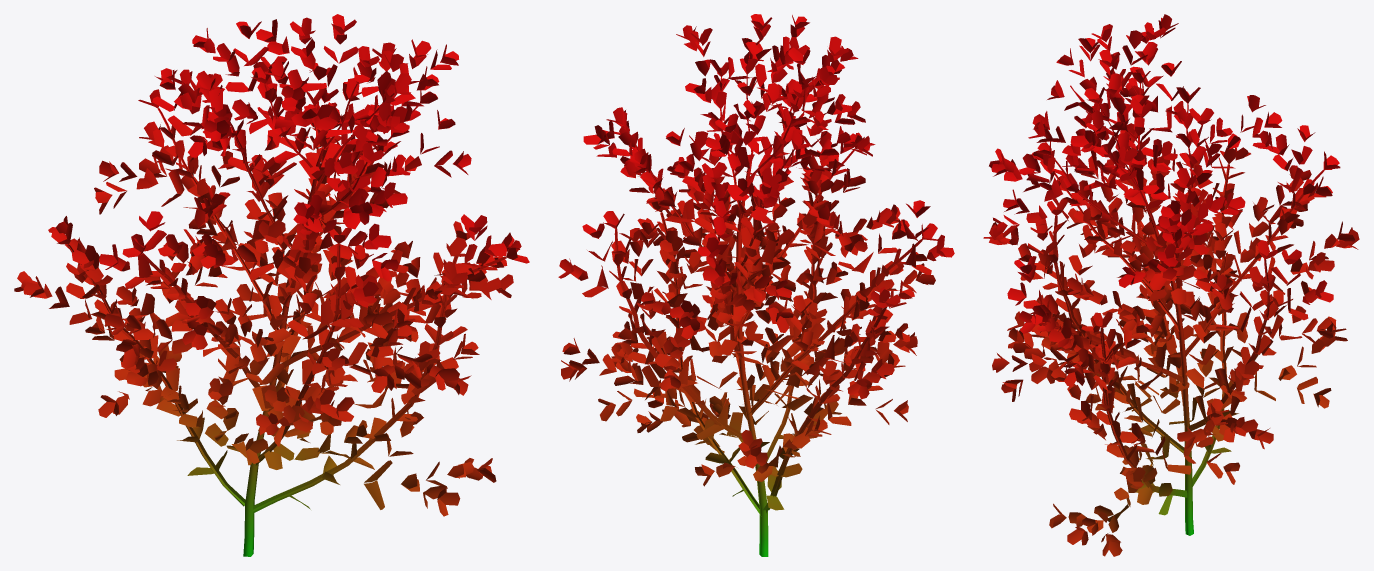
Rendered from Var1_LOD4.fbx.
3 renders of one model, left to right at view 1: azimuth 30°, elevation 25°; view 2: azimuth 150°, elevation 25°; view 3: azimuth 270°, elevation 25°, orthographic. The views are drawn at different scales.
Parts seen in each view (by area): view 1: _0lym_Var1_LOD4; view 2: _0lym_Var1_LOD4; view 3: _0lym_Var1_LOD4.
Part boxes in pixels (x1,y1,x2,y2): _0lym_Var1_LOD4: (14,14,529,556); _0lym_Var1_LOD4: (558,14,954,556); _0lym_Var1_LOD4: (983,14,1359,556).
Size of the model in its own units: 48.37 by 68.79 by 45.86.
